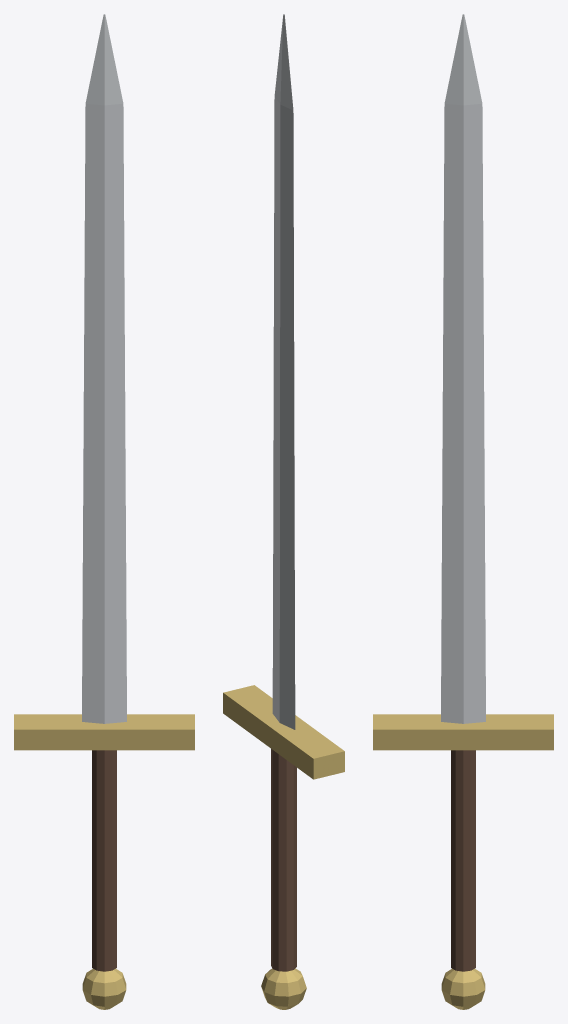
The model's file is TwoHandedSword.fbx.
The picture shows the model from 3 angles, left to right: view 1: azimuth 90°, elevation 25°; view 2: azimuth 210°, elevation 25°; view 3: azimuth 270°, elevation 25°; orthographic projection.
Visible parts, largest first — view 1: Sword; view 2: Sword; view 3: Sword.
Boxes of the visible parts, x1,y1,x2,y2 form: Sword: (14,14,194,1009); Sword: (223,14,344,1009); Sword: (373,14,553,1009).
Bounding box in the file's own units: 0.056 × 1.33 × 0.22.
